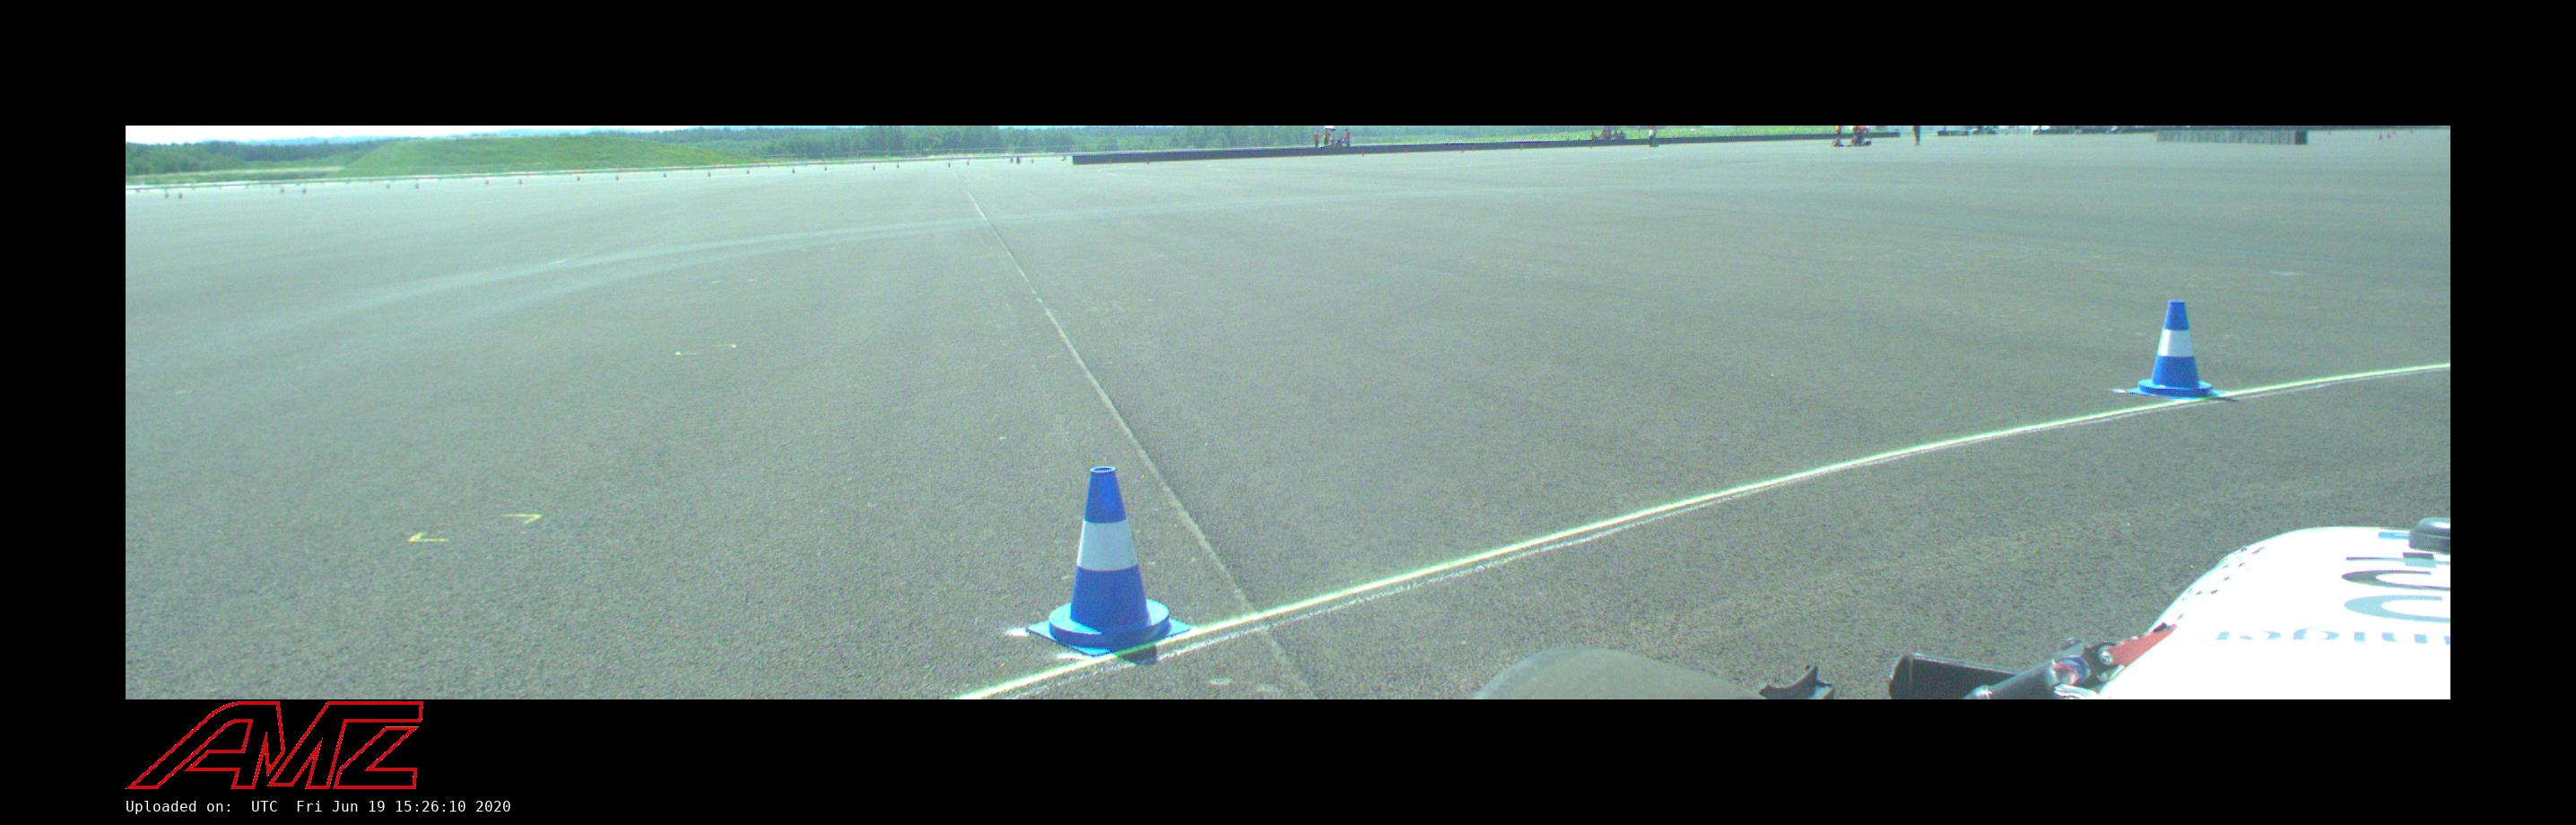blue_cone: (1024, 467, 1190, 656), (2128, 300, 2227, 399)
